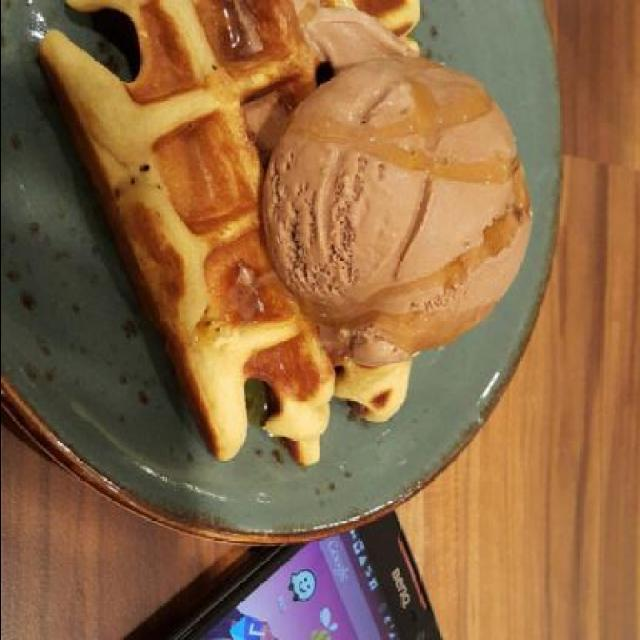Waffle: (37, 0, 520, 474)
